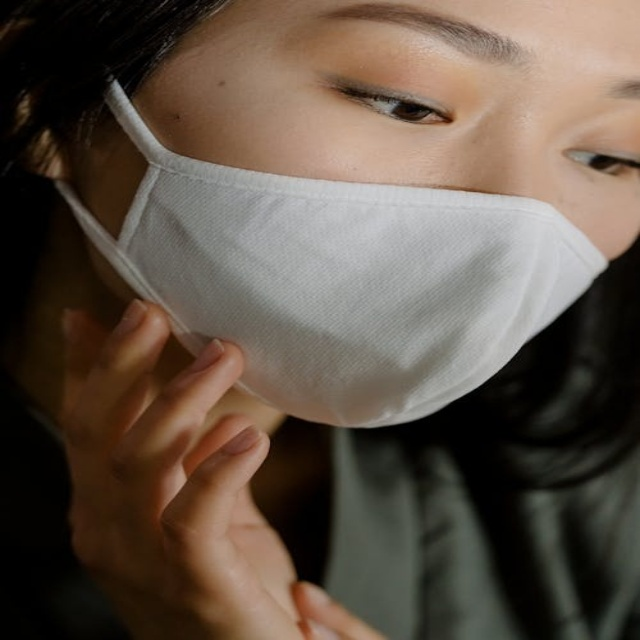Mascara: (51, 69, 615, 429)
Sin_gafas: (335, 82, 453, 125), (565, 147, 640, 179)
Sin_guantes: (51, 288, 391, 640)
